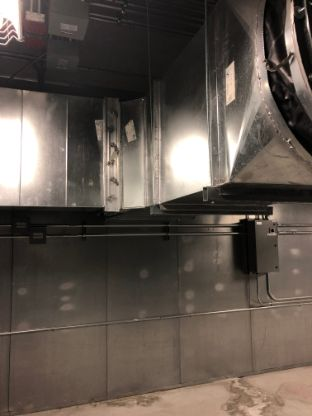Duct: (151, 1, 312, 210), (1, 81, 152, 215)
